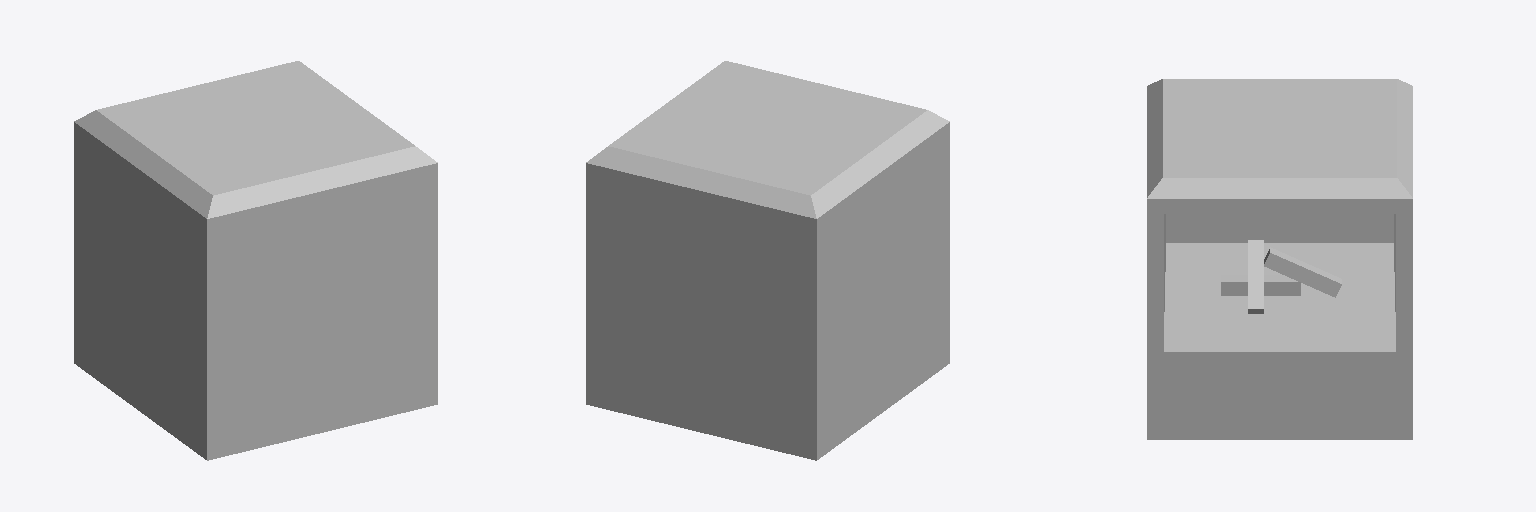
The model's file is fireplaceWithWood.obj.
The picture shows the model from 3 angles: view 1: azimuth 30°, elevation 25°; view 2: azimuth 150°, elevation 25°; view 3: azimuth 270°, elevation 25°; orthographic projection.
Parts seen in each view (by area): view 1: Cube; view 2: Cube; view 3: Cube, Cube.002, Cube.001, Cube.003.
Boxes of the visible parts, x1,y1,x2,y2 form: Cube: [74, 61, 437, 460]; Cube: [586, 61, 949, 460]; Cube: [1147, 79, 1412, 439]; Cube.002: [1264, 247, 1341, 297]; Cube.001: [1221, 275, 1300, 295]; Cube.003: [1248, 240, 1263, 313].
Bounding box in the file's own units: 5.98 × 6.34 × 5.98.